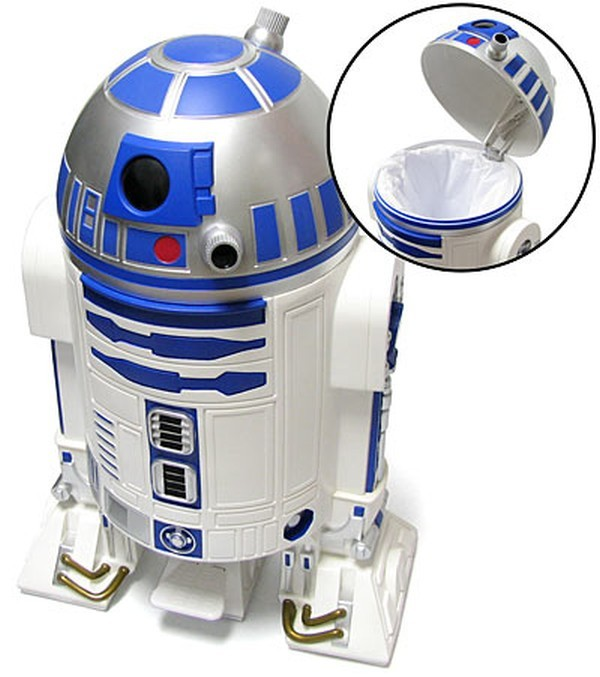r2d2: (27, 32, 333, 654)
